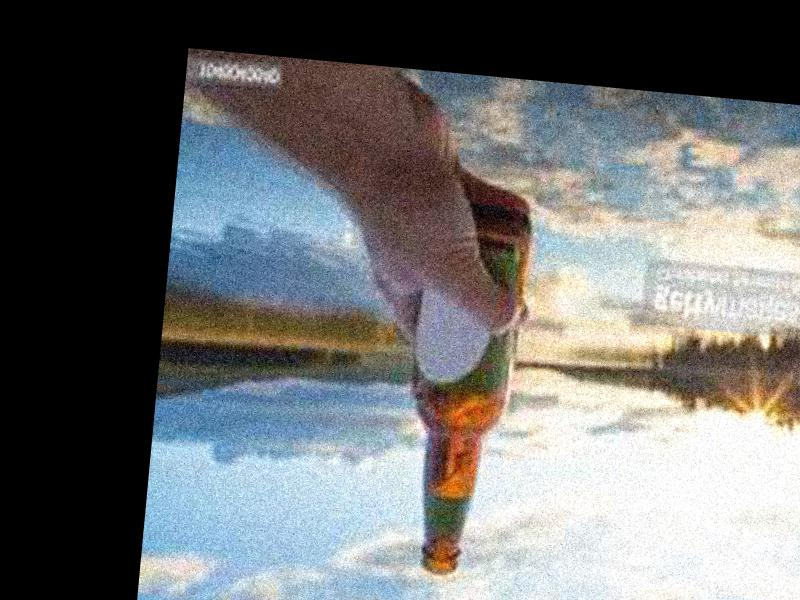Beer: (391, 204, 535, 580)
